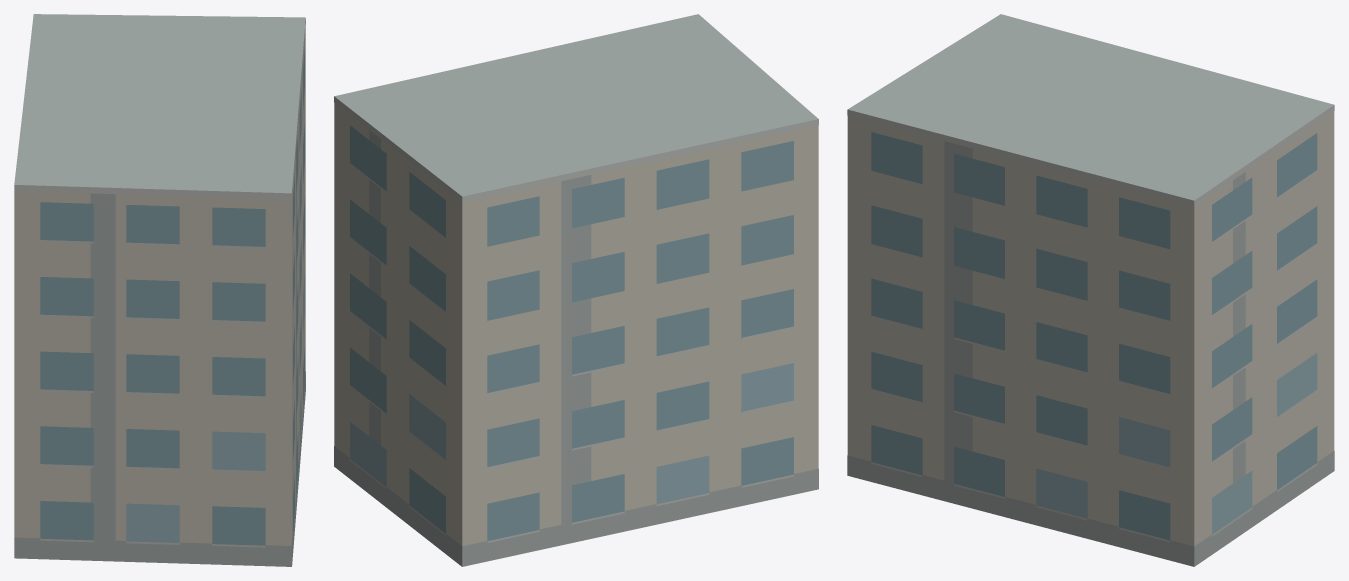
The model's file is survey-upis-32956494.glb.
The picture shows the model from 3 angles, left to right: view 1: azimuth 30°, elevation 25°; view 2: azimuth 150°, elevation 25°; view 3: azimuth 270°, elevation 25°; orthographic projection.
Visible parts, largest first — view 1: survey-upis-32956494.tmp; view 2: survey-upis-32956494.tmp; view 3: survey-upis-32956494.tmp.
Part boxes in pixels (x1,y1,x2,y2): survey-upis-32956494.tmp: [14, 14, 305, 566]; survey-upis-32956494.tmp: [334, 14, 818, 566]; survey-upis-32956494.tmp: [847, 14, 1334, 566].
Bounding box in the file's own units: 15.86 × 14.5 × 17.48.
